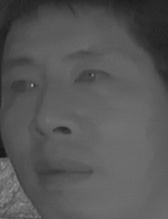eye: (72, 66, 114, 90), (6, 77, 39, 96)
mouth: (32, 151, 94, 193)
